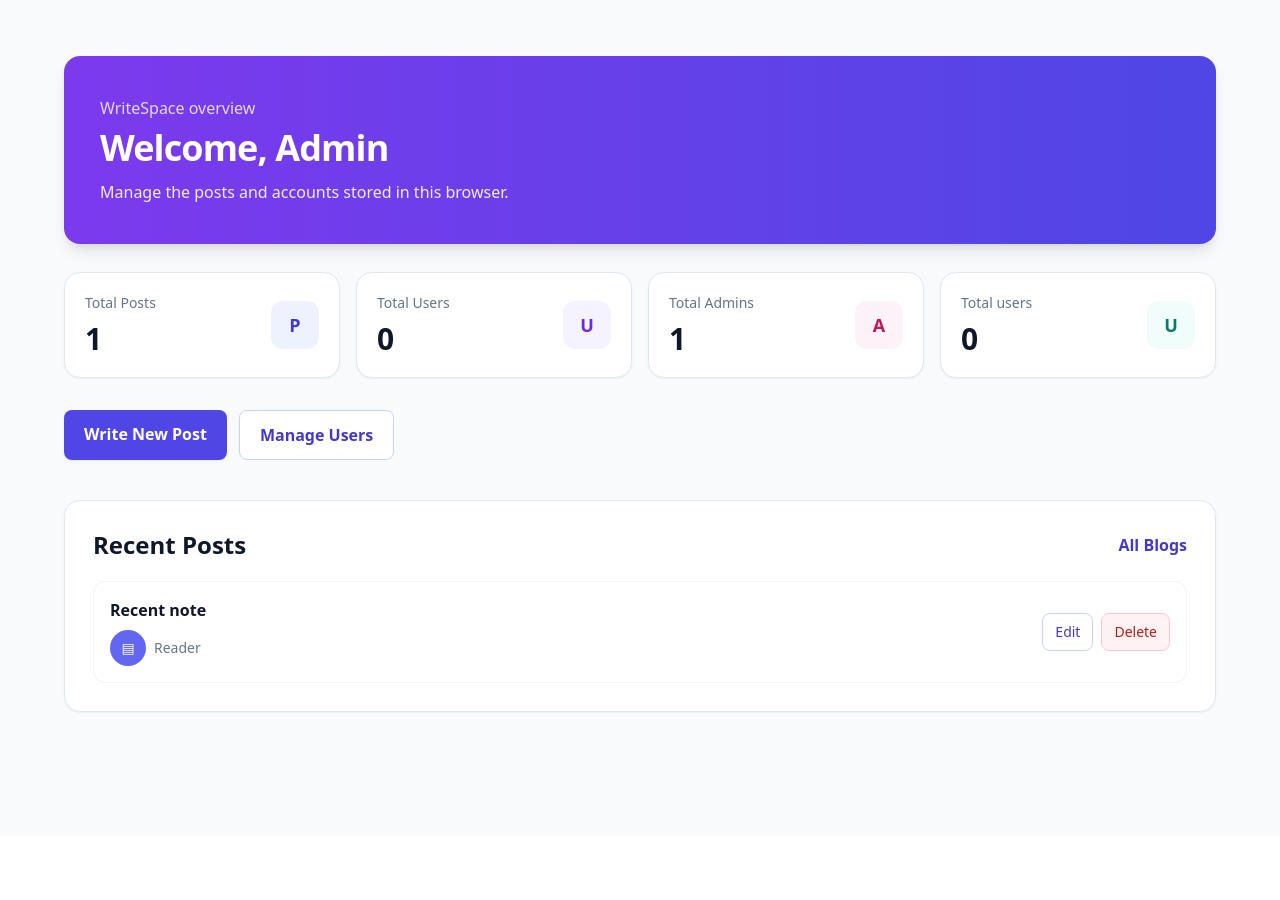
Test: admin dashboard › shows recent posts and deletes a post only after confirmation
Click the button "Delete".
click(1136, 632)  # box [1101, 613, 1170, 651]
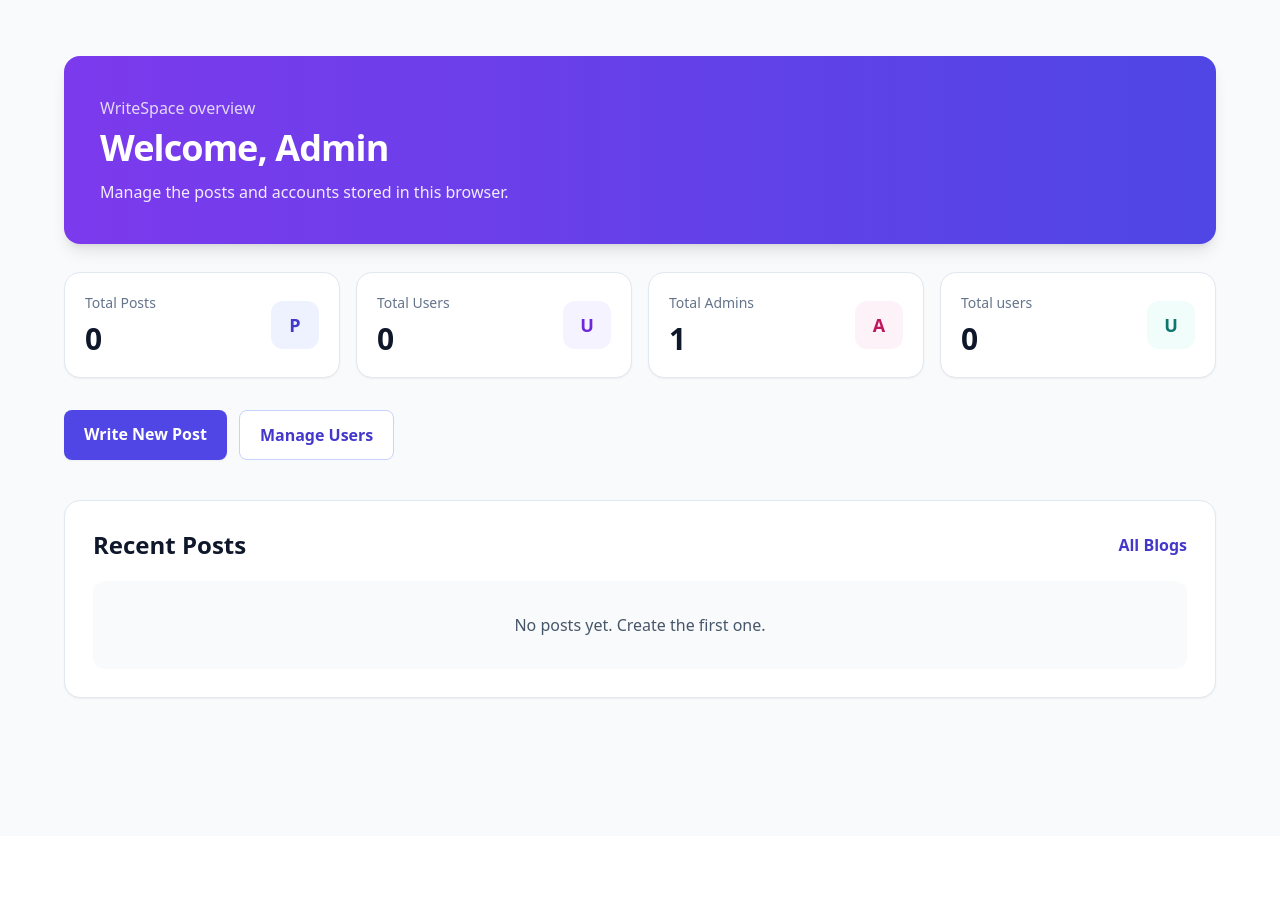
Check: the text "No posts yet. Create the first one." is shown, box [93, 581, 1187, 669]
